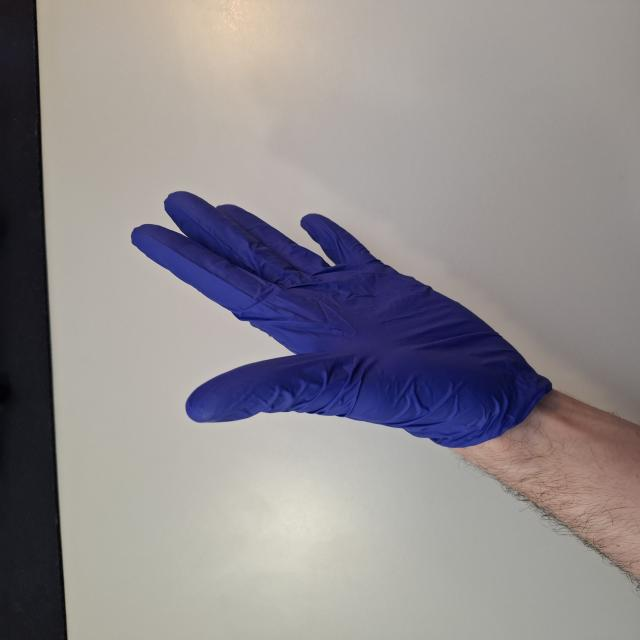glove_on: (128, 189, 559, 450)
